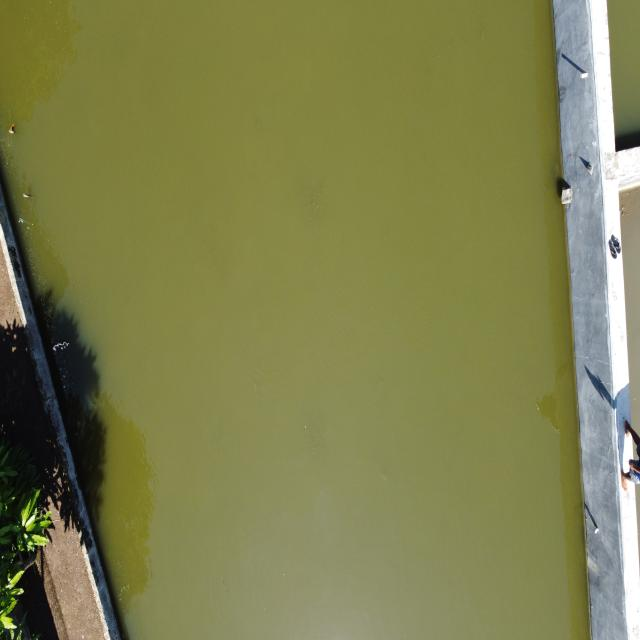Ponds: (1, 1, 616, 640), (603, 147, 640, 580), (591, 1, 640, 180)
